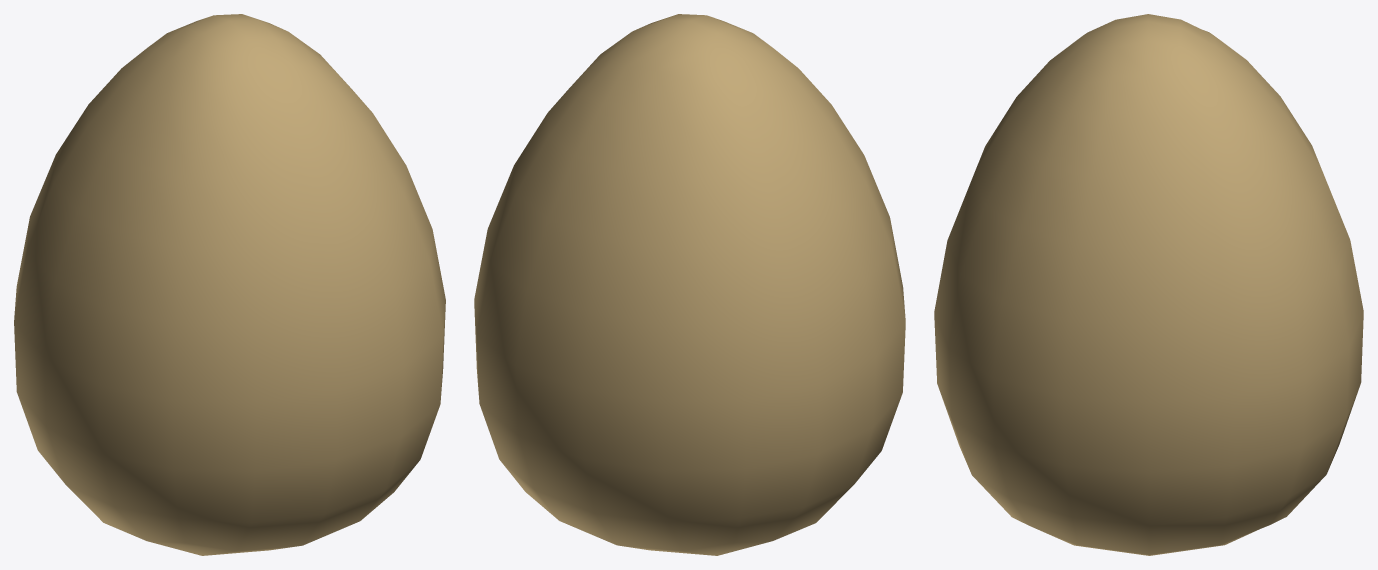
File: Ingrediente_Egg.fbx
3 views of the same model, side by side, from view 1: azimuth 30°, elevation 25°; view 2: azimuth 150°, elevation 25°; view 3: azimuth 270°, elevation 25° (orthographic).
Visible parts, largest first — view 1: Cube.005; view 2: Cube.005; view 3: Cube.005.
Boxes of the visible parts, x1,y1,x2,y2 form: Cube.005: (14,14,445,555); Cube.005: (474,14,905,555); Cube.005: (934,14,1363,555).
Size of the model in its own units: 35.82 by 46.97 by 35.82.
